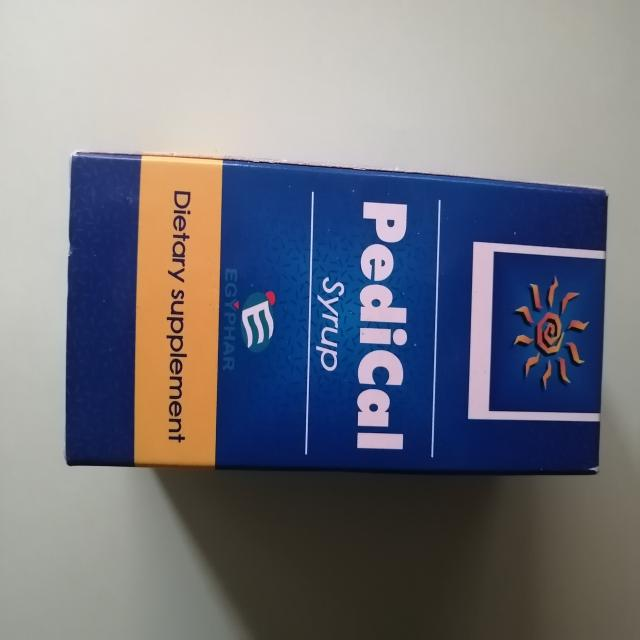Medicine: (61, 149, 612, 486)
